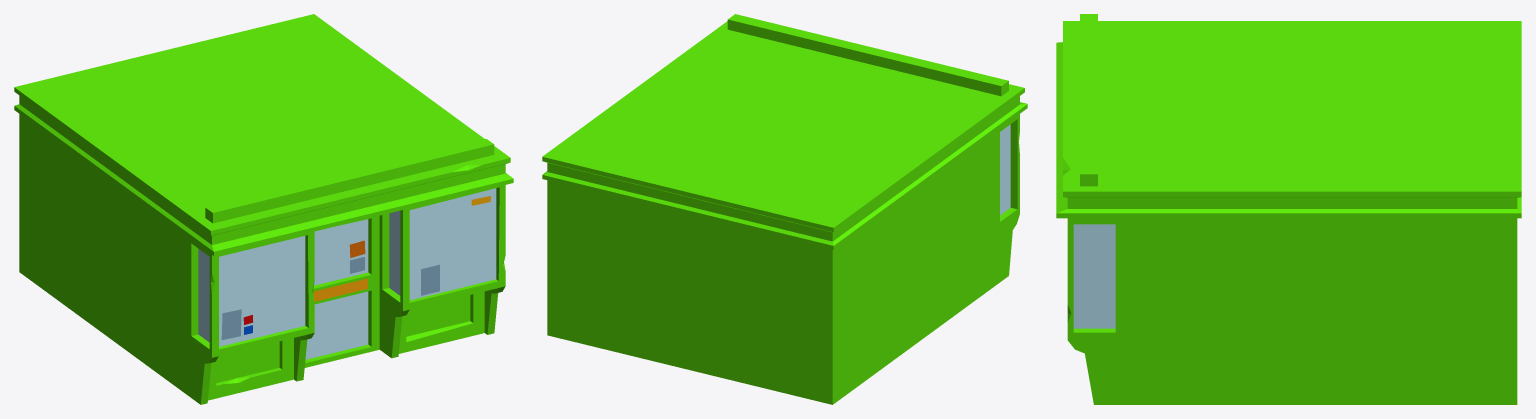
Rendered from SM_Bld_Shop_04_edit.fbx.
3 views of the same model, side by side, from view 1: azimuth 30°, elevation 25°; view 2: azimuth 150°, elevation 25°; view 3: azimuth 270°, elevation 25° (orthographic). The views are drawn at different scales.
Parts seen in each view (by area): view 1: SM_Bld_Shop_04_Glass.001; view 2: SM_Bld_Shop_04_Glass.001; view 3: SM_Bld_Shop_04_Glass.001.
Part boxes in pixels (x1,y1,x2,y2): SM_Bld_Shop_04_Glass.001: (14,14,513,404); SM_Bld_Shop_04_Glass.001: (542,14,1027,404); SM_Bld_Shop_04_Glass.001: (1056,14,1521,404).
Size of the model in its own units: 511 by 317 by 589.
